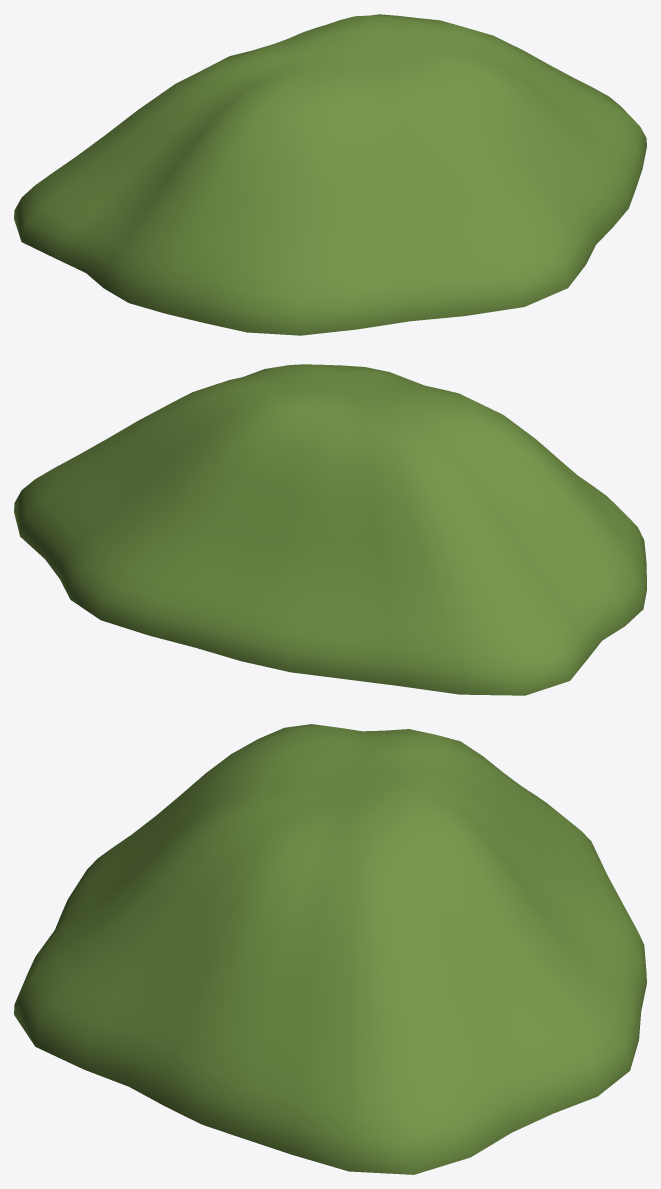
Rendered from birch_trail_plush_moss.glb.
3 views of the same model, one above another, from view 1: azimuth 30°, elevation 25°; view 2: azimuth 150°, elevation 25°; view 3: azimuth 270°, elevation 25° (orthographic). The views are drawn at different scales.
Parts seen in each view (by area): view 1: SM_BirchTrail_PlushMoss; view 2: SM_BirchTrail_PlushMoss; view 3: SM_BirchTrail_PlushMoss.
Part boxes in pixels (<box>): SM_BirchTrail_PlushMoss: <box>14,14,646,335</box>; SM_BirchTrail_PlushMoss: <box>14,364,646,695</box>; SM_BirchTrail_PlushMoss: <box>14,724,646,1174</box>.
Size of the model in its own units: 0.8899 by 0.257 by 0.6797.
